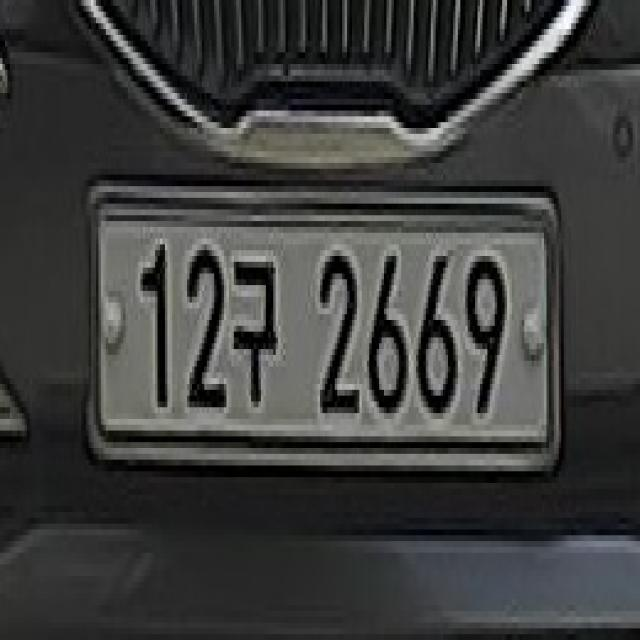1: (133, 238, 182, 419)
2: (313, 238, 364, 431), (182, 238, 229, 424)
6: (364, 227, 414, 430), (413, 250, 462, 425)
9: (463, 244, 512, 430)
gu: (229, 244, 283, 419)
license_plate: (84, 163, 561, 494)
